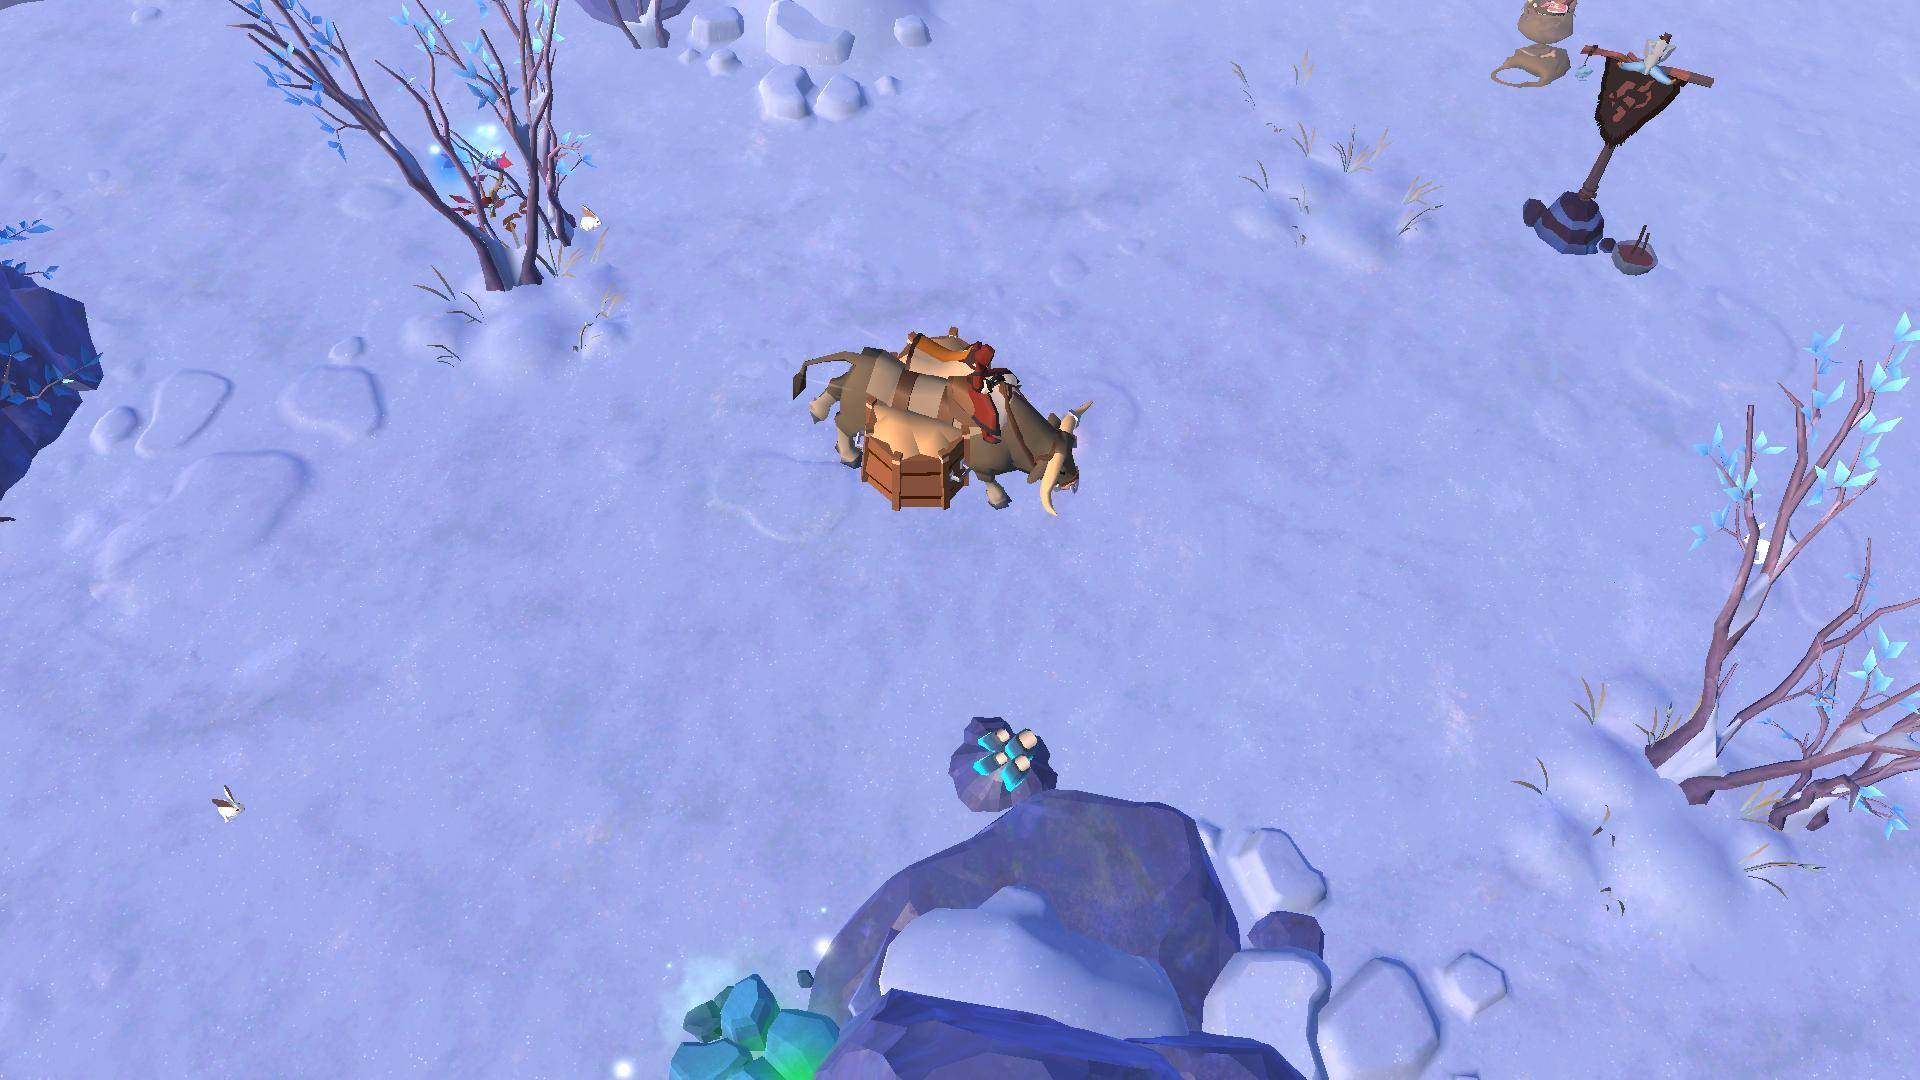ore_t4: (965, 712, 1044, 790)
rock_t4: (663, 972, 852, 1080)
